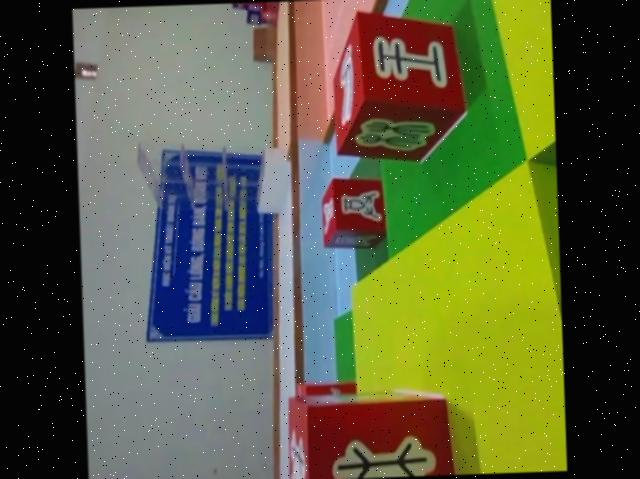R2 Fake: (321, 3, 473, 167)
R2 Real: (281, 386, 465, 479), (318, 174, 390, 248)
